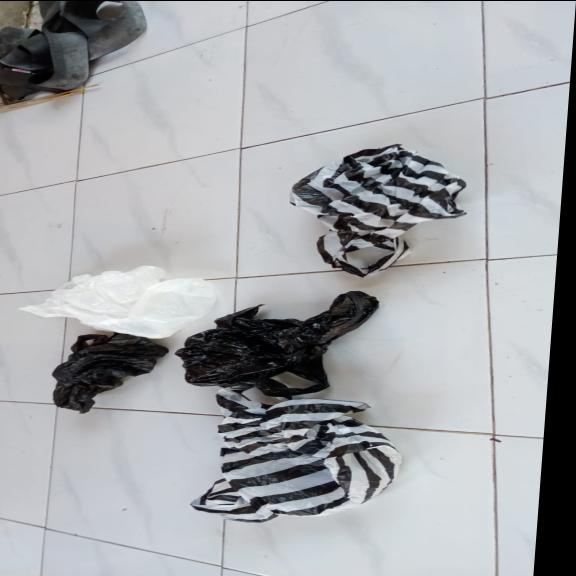Plastik: (187, 388, 407, 522), (280, 146, 470, 278), (172, 288, 384, 395), (14, 263, 220, 338), (47, 330, 171, 412)
